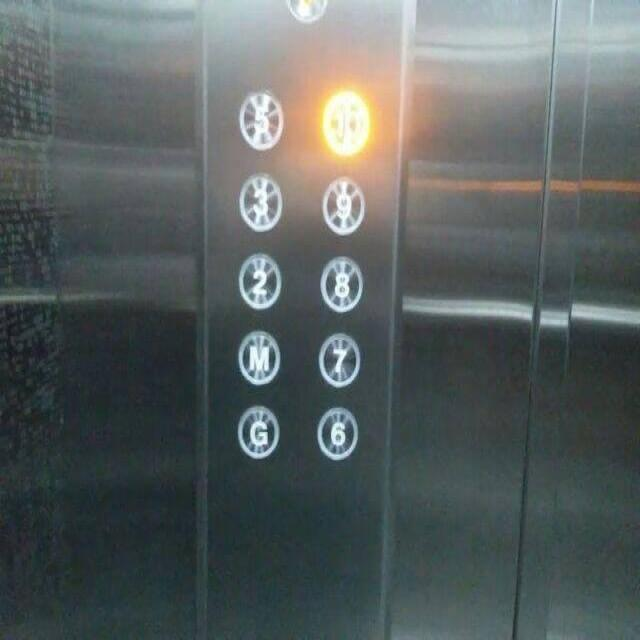10: (319, 85, 372, 152)
2: (237, 249, 282, 308)
3: (238, 170, 283, 230)
5: (238, 86, 284, 150)
6: (315, 402, 358, 458)
7: (317, 331, 361, 385)
8: (319, 252, 364, 311)
9: (320, 172, 365, 233)
G: (236, 404, 279, 457)
M: (236, 325, 280, 383)
